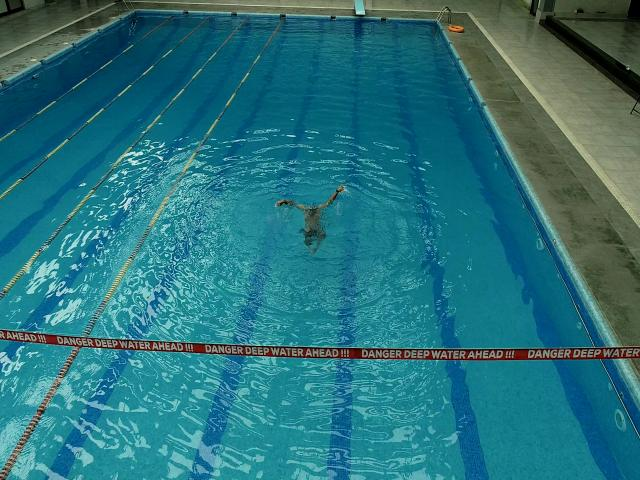drowning: (274, 185, 350, 253)
